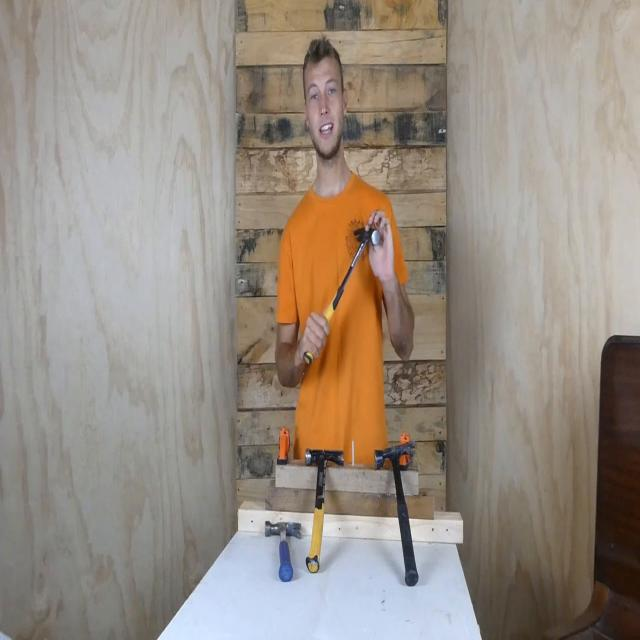hammer: (302, 216, 382, 369), (372, 432, 422, 591), (303, 443, 345, 577), (262, 516, 306, 588)
